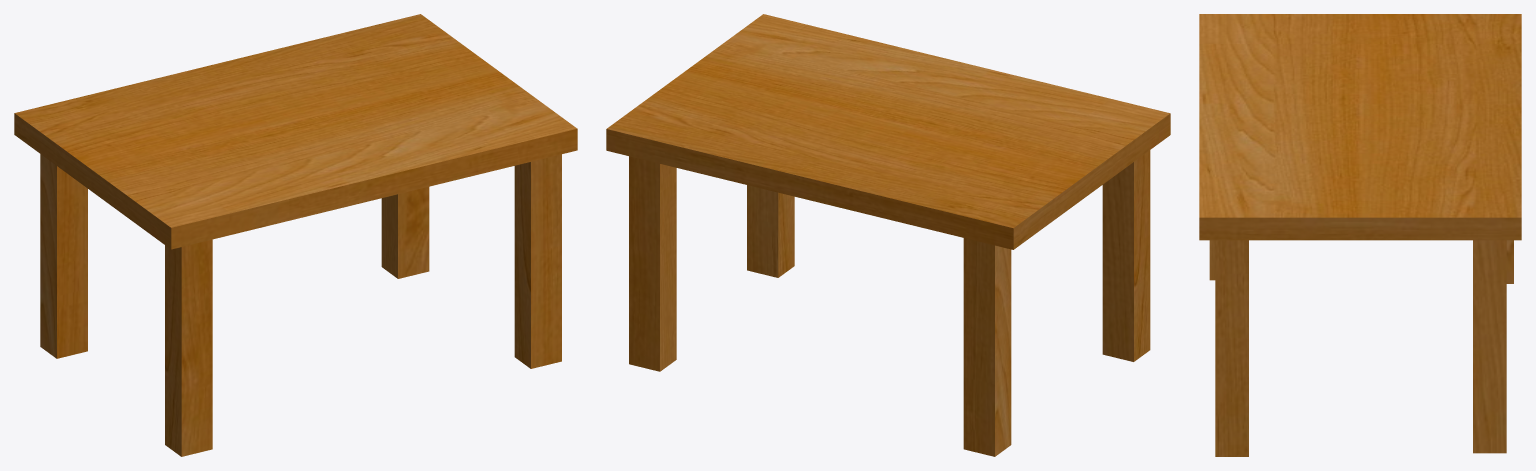
Rendered from table.obj.
3 views of the same model, side by side, from view 1: azimuth 30°, elevation 25°; view 2: azimuth 150°, elevation 25°; view 3: azimuth 270°, elevation 25° (orthographic). The views are drawn at different scales.
Parts seen in each view (by area): view 1: Tisch; view 2: Tisch; view 3: Tisch.
Boxes of the visible parts, left/top/right/bottom form: Tisch: left=14, top=14, right=577, bottom=456; Tisch: left=606, top=14, right=1170, bottom=456; Tisch: left=1199, top=14, right=1521, bottom=456.
Size of the model in its own units: 3.13 by 1.74 by 2.09.
Materials: 1 (1 with a texture image).
